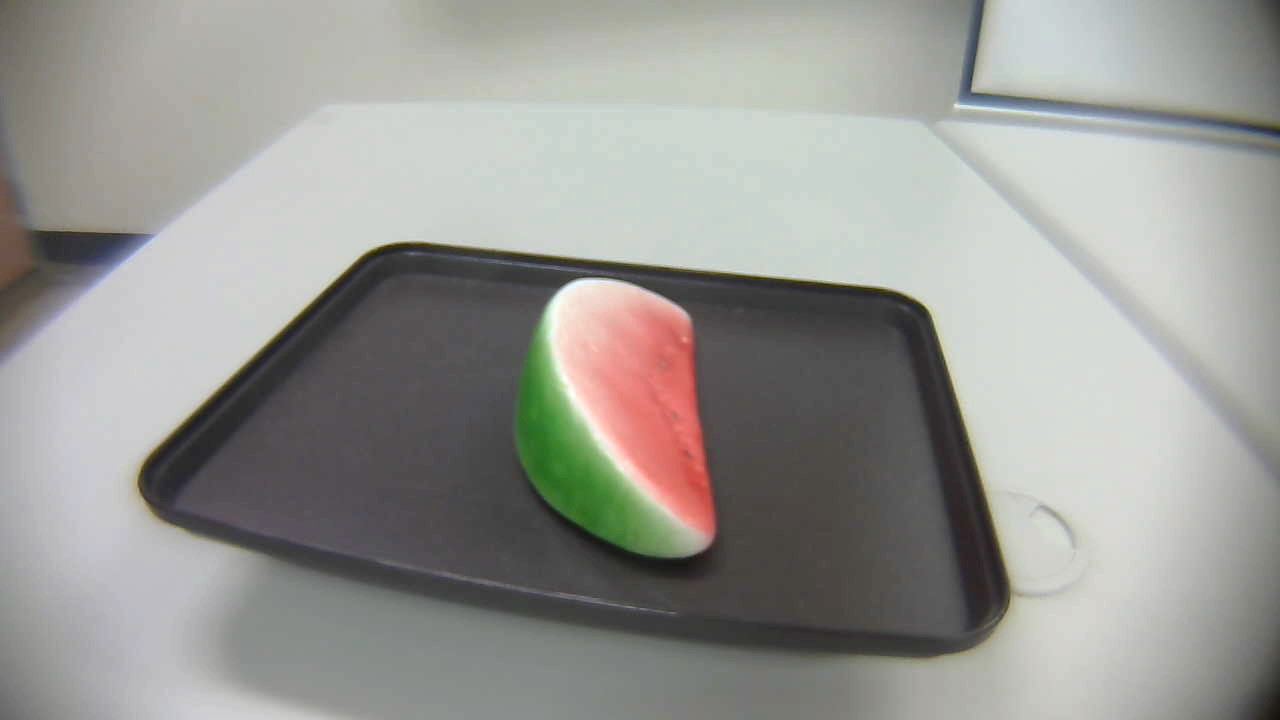water melon: (504, 261, 752, 571)
